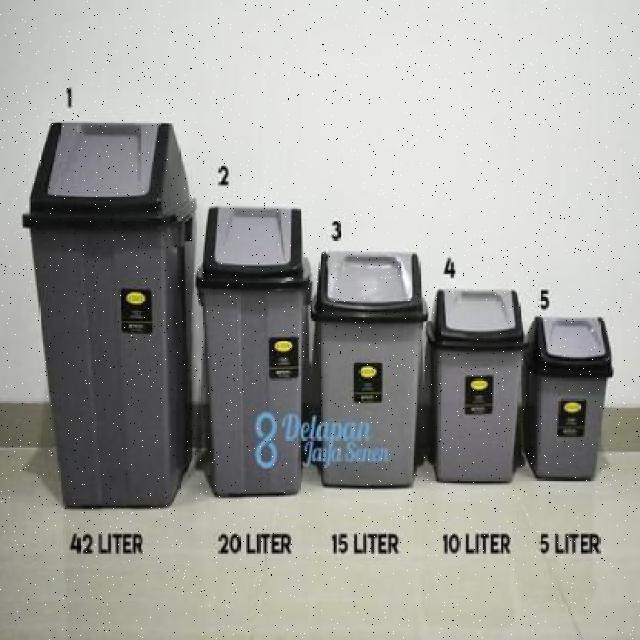garbage container: (22, 112, 196, 525), (197, 201, 314, 503), (311, 241, 427, 507), (427, 286, 527, 494), (526, 313, 620, 495)
